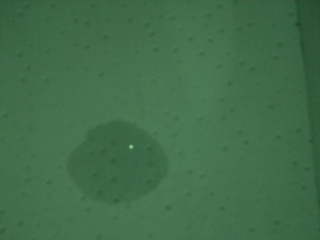Water_detected: (73, 126, 159, 203)
